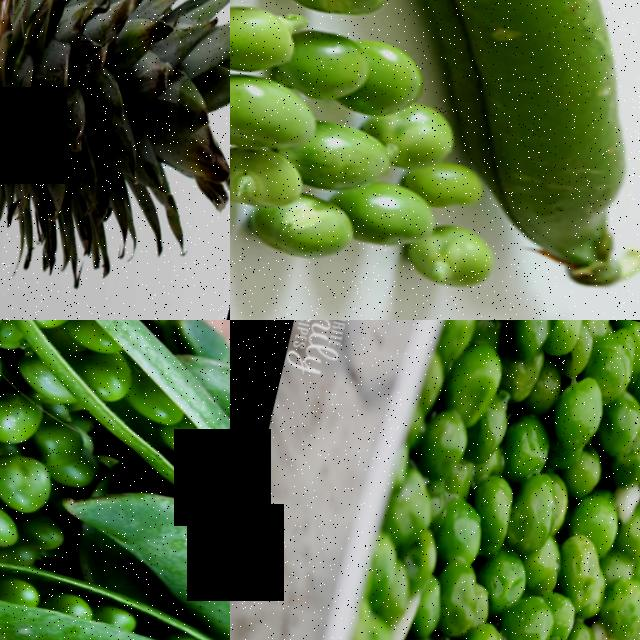peas: (291, 320, 640, 640), (230, 63, 493, 299), (230, 0, 446, 132), (0, 320, 58, 585)
pineapple: (0, 0, 87, 320)
